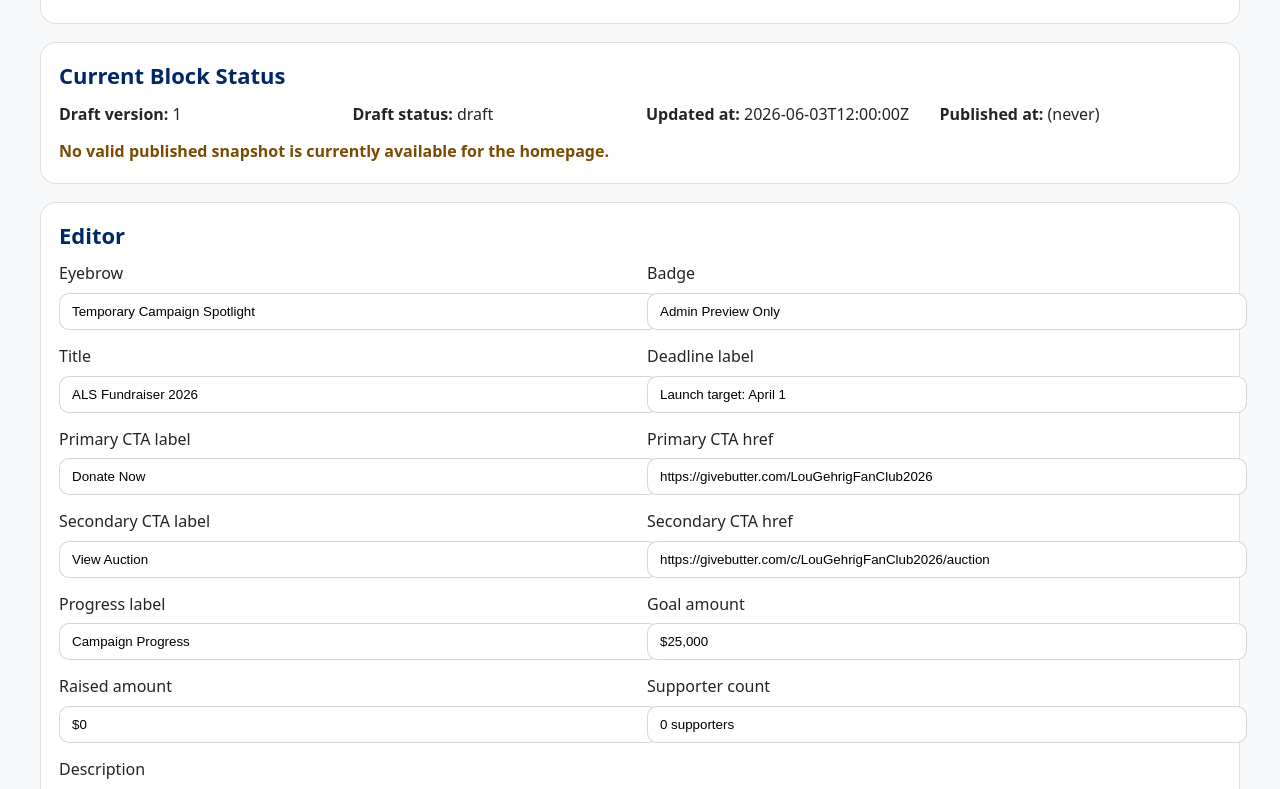
it: admin fundraiser preview page › blocks publish when draft has not been saved
The image size is (1280, 789).
(page scrolled)
Step 1. Replace the text in the field labelled "Title" with "Changed Without Save" → point(359, 394), box [59,376,659,413]
(page scrolled)
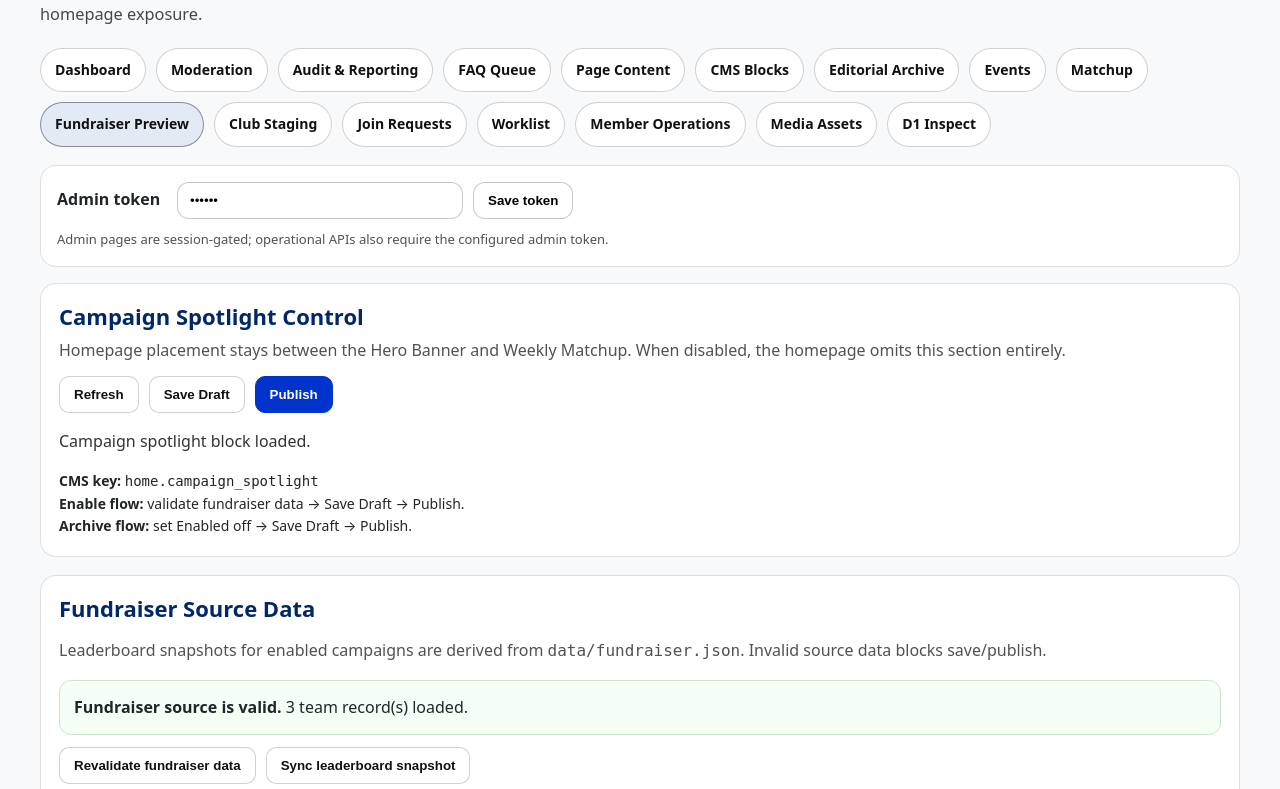
Step 2. Click the button "Publish" → point(294, 394), box [255,376,333,413]
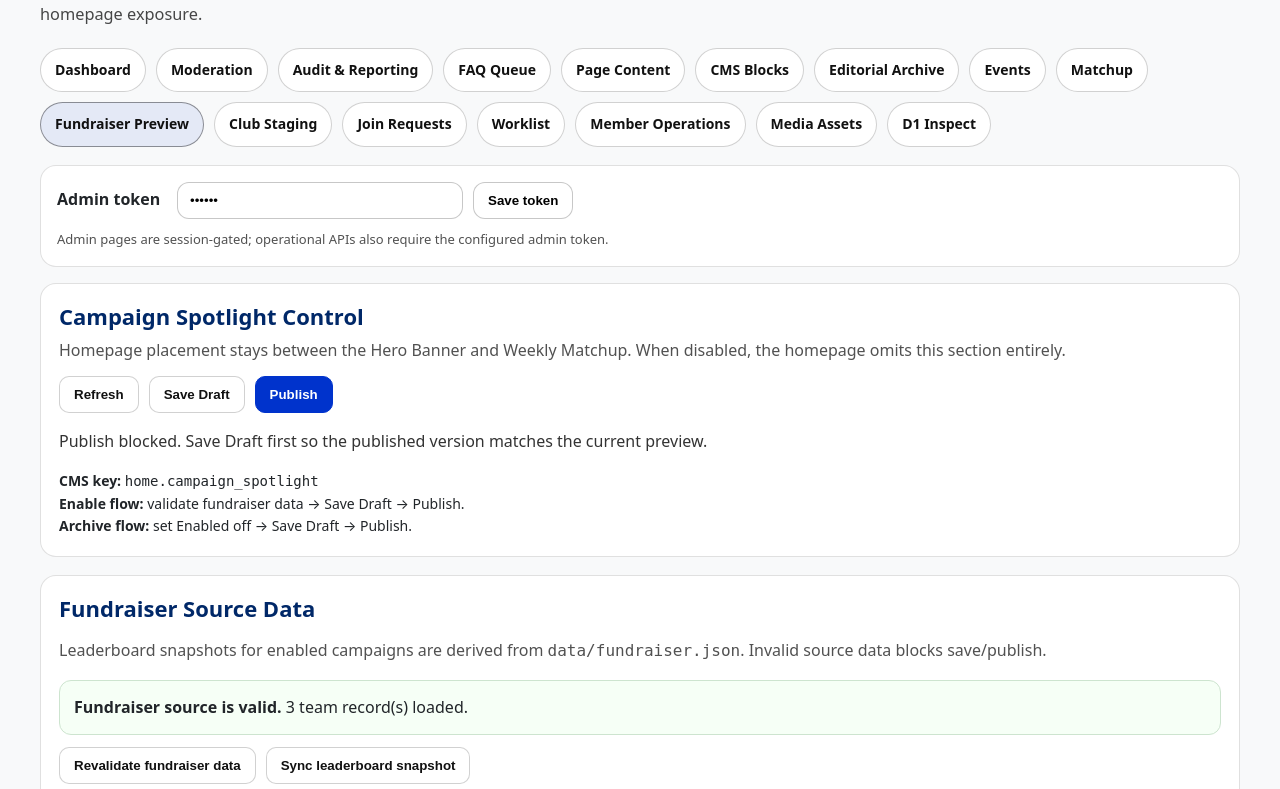
Check: the text "Publish blocked. Save Draft first so the published version matches the current preview." is shown, box [59,430,707,452]
